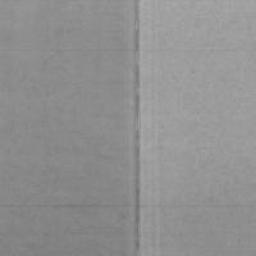Welding line: (131, 0, 142, 256)
